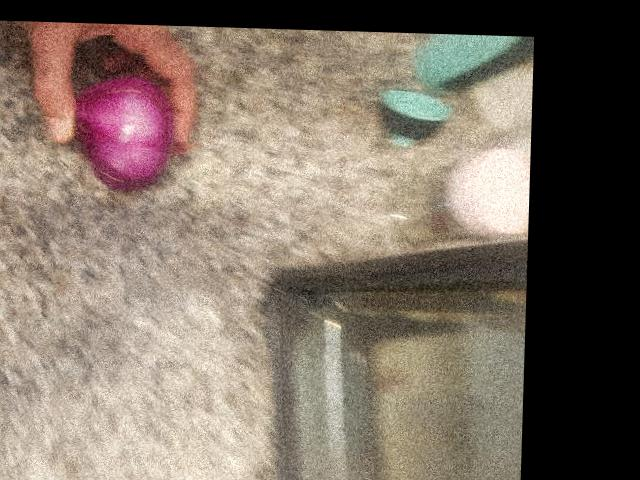onion: (60, 71, 184, 190)
